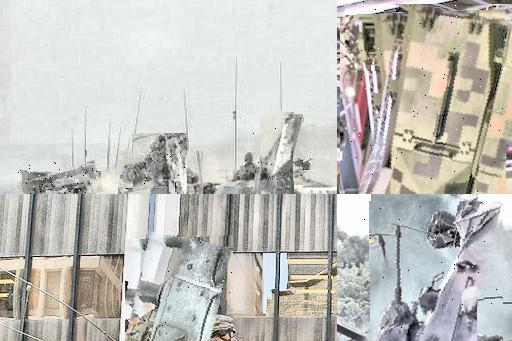tanks: (394, 6, 512, 195), (380, 203, 503, 341), (140, 236, 233, 341), (254, 115, 304, 195), (137, 135, 188, 195), (19, 164, 98, 195)
